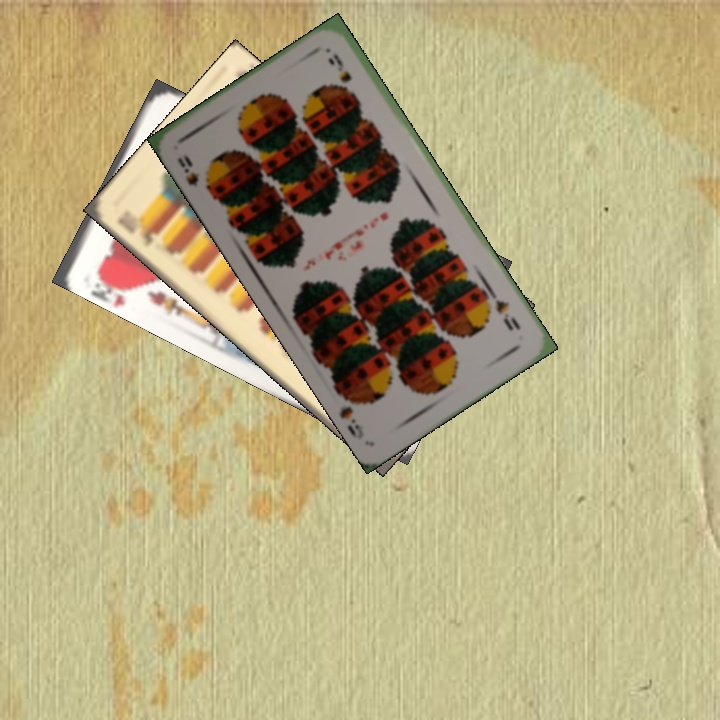E10: (113, 212, 160, 250)
HK: (89, 266, 140, 303)
S9: (173, 151, 216, 198), (487, 288, 524, 334)
